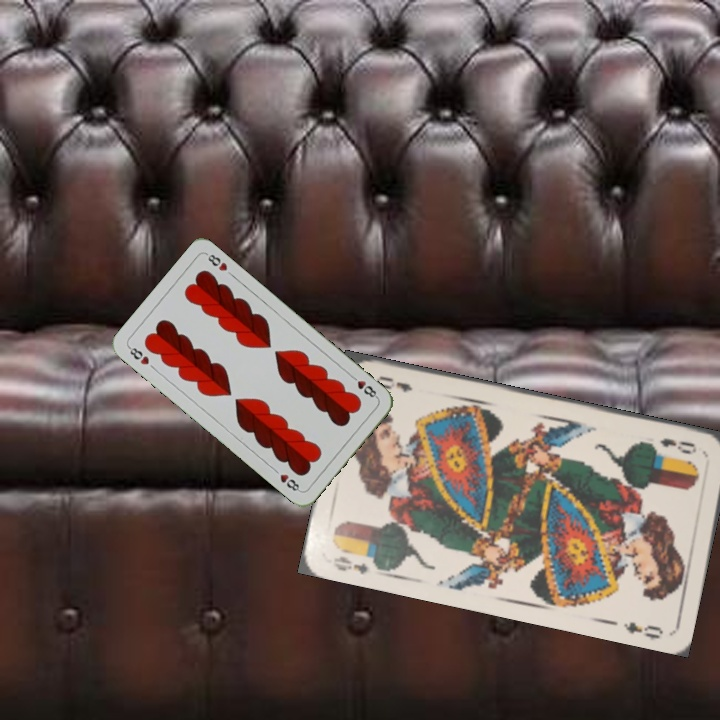EO: (328, 552, 371, 577), (656, 433, 699, 457)
H8: (346, 371, 380, 401), (124, 342, 152, 368)
